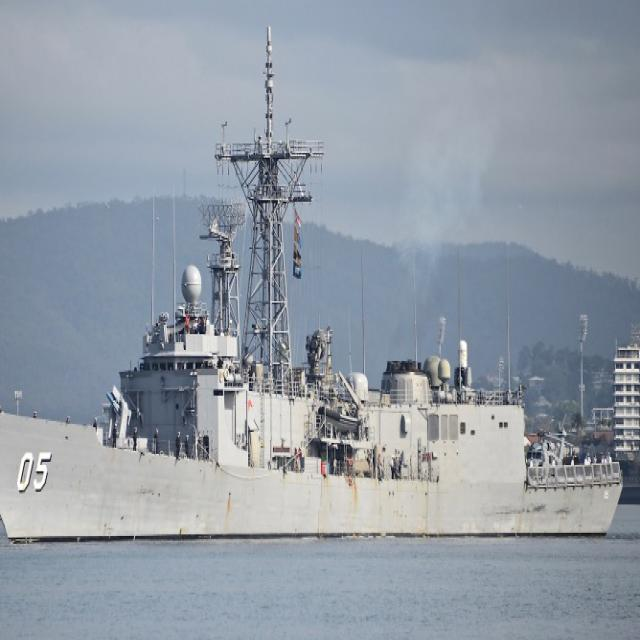Fragata: (1, 34, 633, 560)
